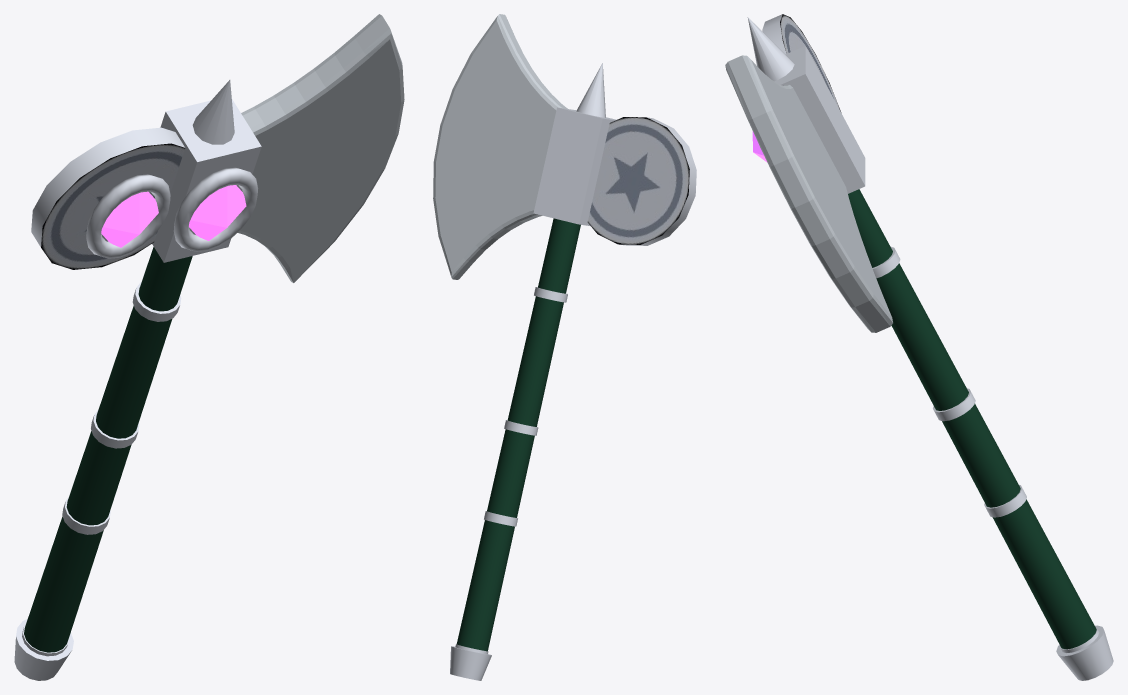
File: hand_eqtz2.glb
The picture shows the model from 3 angles, left to right: view 1: azimuth 30°, elevation 25°; view 2: azimuth 150°, elevation 25°; view 3: azimuth 270°, elevation 25°; orthographic projection. The views are drawn at different scales.
Size of the model in its own units: 2.27 by 4.7 by 2.41.
Materials: 5 (1 with a texture image).
